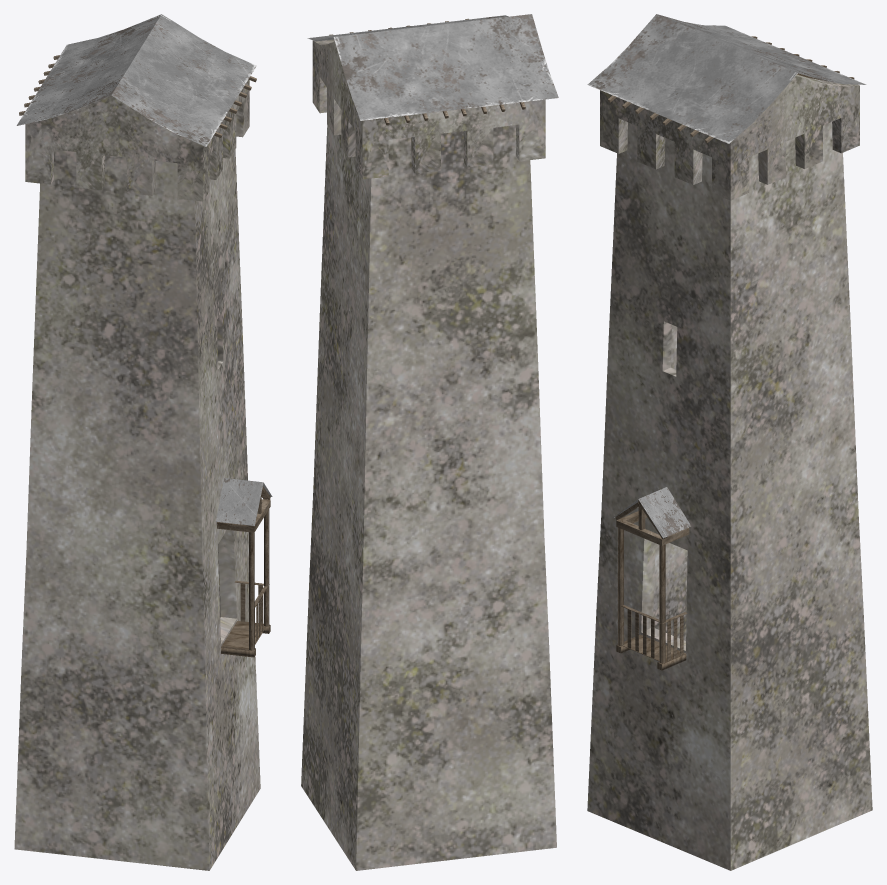
The model's file is tower.glb.
3 views of the same model, side by side, from view 1: azimuth 30°, elevation 25°; view 2: azimuth 150°, elevation 25°; view 3: azimuth 270°, elevation 25° (orthographic). The views are drawn at different scales.
Visible parts, largest first — view 1: polySurface38; view 2: polySurface38; view 3: polySurface38.
Part boxes in pixels (x1=…): polySurface38: x1=14, y1=14, x2=272, y2=870; polySurface38: x1=301, y1=14, x2=558, y2=870; polySurface38: x1=587, y1=14, x2=872, y2=870.
Bounding box in the file's own units: 5.1 × 15.12 × 5.1.
1 material, 1 textured.
